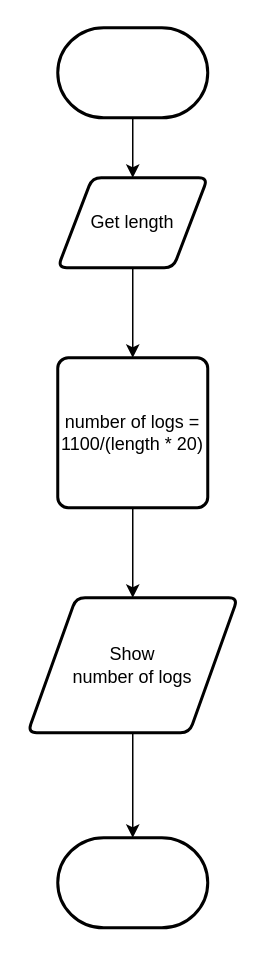
This 264x954 diagram has some shape labels left out. The shapes that lost their labels are listed below. From the top down, each one's centre as x and y in pixels, then its label:
point 132,72: start
point 132,882: stop
